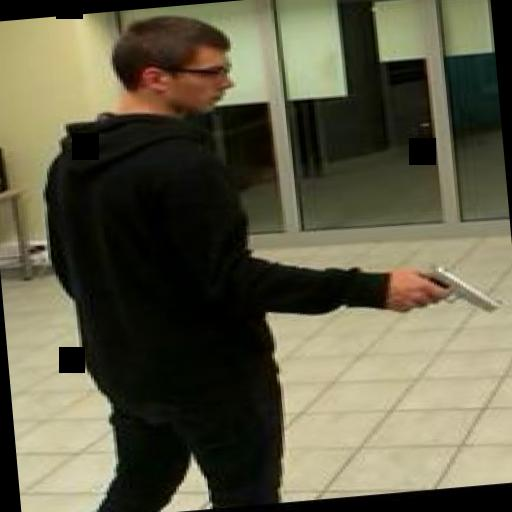Handgun: (398, 252, 504, 322)
